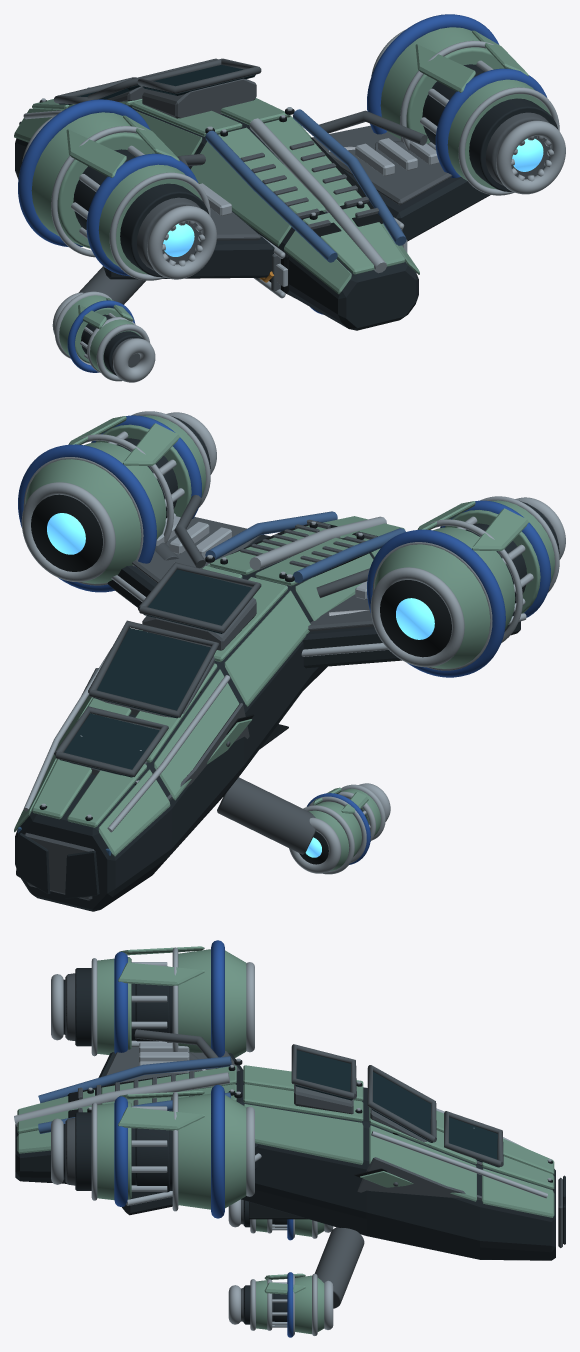
Rendered from yamato.glb.
3 renders of one model, top to bottom at view 1: azimuth 30°, elevation 25°; view 2: azimuth 150°, elevation 25°; view 3: azimuth 270°, elevation 25°, orthographic. The views are drawn at different scales.
Parts seen in each view (by area): view 1: yamato.001; view 2: yamato.001; view 3: yamato.001.
Part boxes in pixels (x1,y1,x2,y2): yamato.001: [14, 14, 565, 382]; yamato.001: [14, 411, 565, 911]; yamato.001: [14, 940, 565, 1337].
Size of the model in its own units: 4.24 by 2.63 by 4.91.
